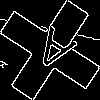A: (25, 25, 78, 82)
